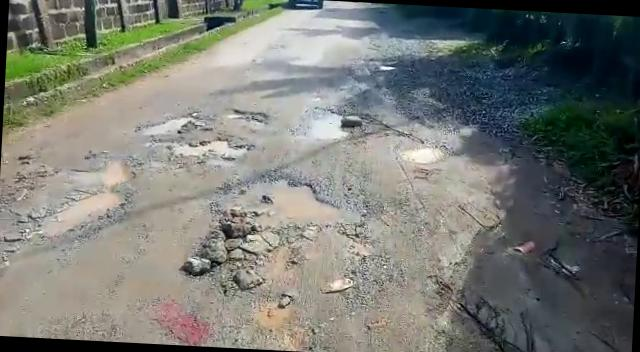pothole: (200, 169, 372, 243), (26, 183, 132, 242), (165, 133, 251, 164), (134, 106, 200, 135), (306, 109, 352, 140), (96, 156, 136, 186)
